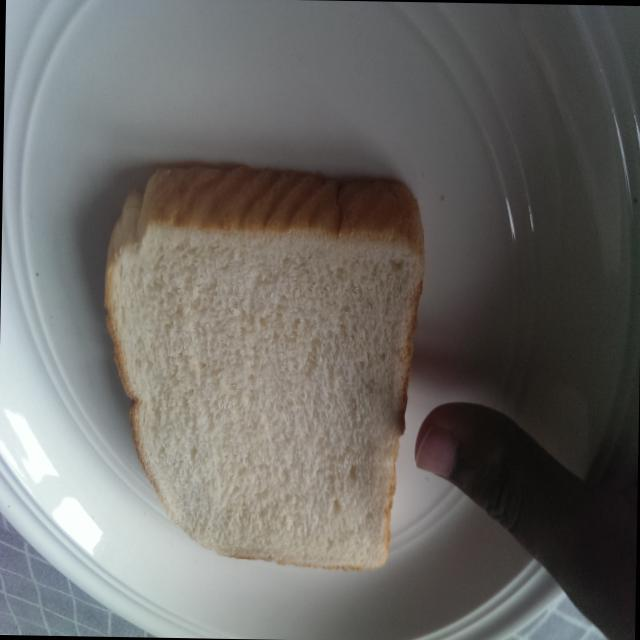Bread: (90, 146, 417, 580)
Finger: (407, 392, 538, 568)
